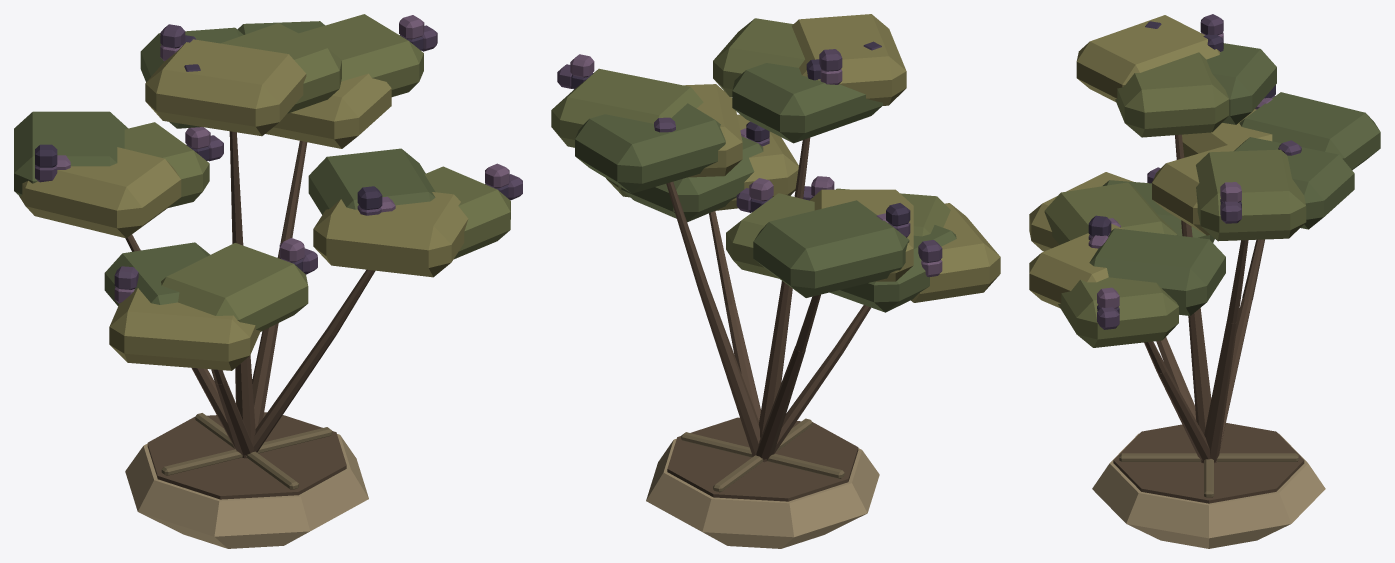
Rendered from elderberry_packed_autumn.glb.
3 renders of one model, left to right at view 1: azimuth 30°, elevation 25°; view 2: azimuth 150°, elevation 25°; view 3: azimuth 270°, elevation 25°, orthographic. The views are drawn at different scales.
Visible parts, largest first — view 1: elderberry_packed_autumn; view 2: elderberry_packed_autumn; view 3: elderberry_packed_autumn.
Part boxes in pixels (bbox=[...]): elderberry_packed_autumn: bbox=[14, 14, 522, 548]; elderberry_packed_autumn: bbox=[551, 14, 1000, 548]; elderberry_packed_autumn: bbox=[1029, 14, 1380, 548].
Bounding box in the file's own units: 2.25 × 2.66 × 1.8.
